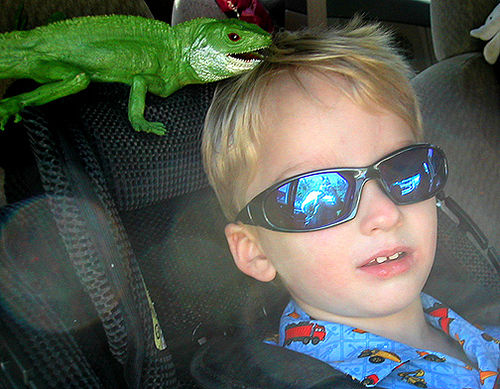without_mask: (223, 57, 462, 326)
